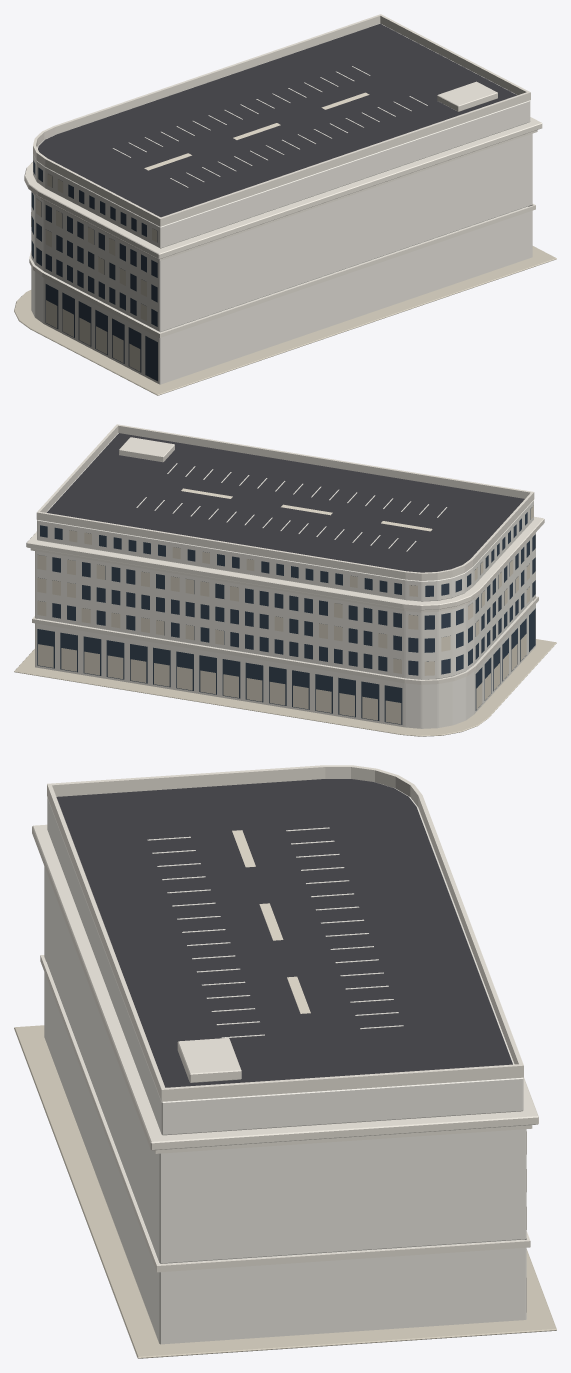
The model's file is white-house-building.glb.
The picture shows the model from 3 angles, top to bottom: view 1: azimuth 30°, elevation 25°; view 2: azimuth 150°, elevation 25°; view 3: azimuth 270°, elevation 25°; orthographic projection. The views are drawn at different scales.
Visible parts, largest first — view 1: white-house-building_body, white-house-building_night_glow; view 2: white-house-building_body, white-house-building_night_glow; view 3: white-house-building_body, white-house-building_night_glow.
Part boxes in pixels (box(x1,y1,x2,y2)): white-house-building_body: box(14, 14, 556, 395); white-house-building_night_glow: box(31, 92, 369, 371); white-house-building_body: box(14, 424, 556, 736); white-house-building_night_glow: box(37, 488, 533, 724); white-house-building_body: box(14, 765, 556, 1358); white-house-building_night_glow: box(232, 830, 526, 1312).
Bounding box in the file's own units: 94.65 × 32.1 × 61.88.
